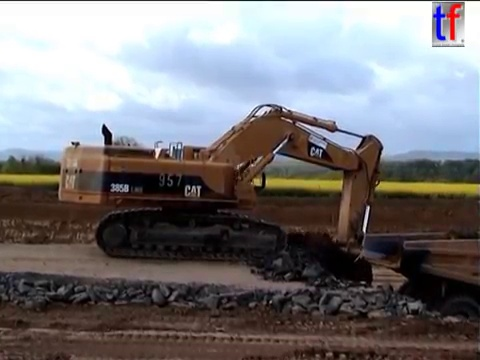excavator: (54, 100, 386, 294)
truck: (357, 228, 480, 352)
